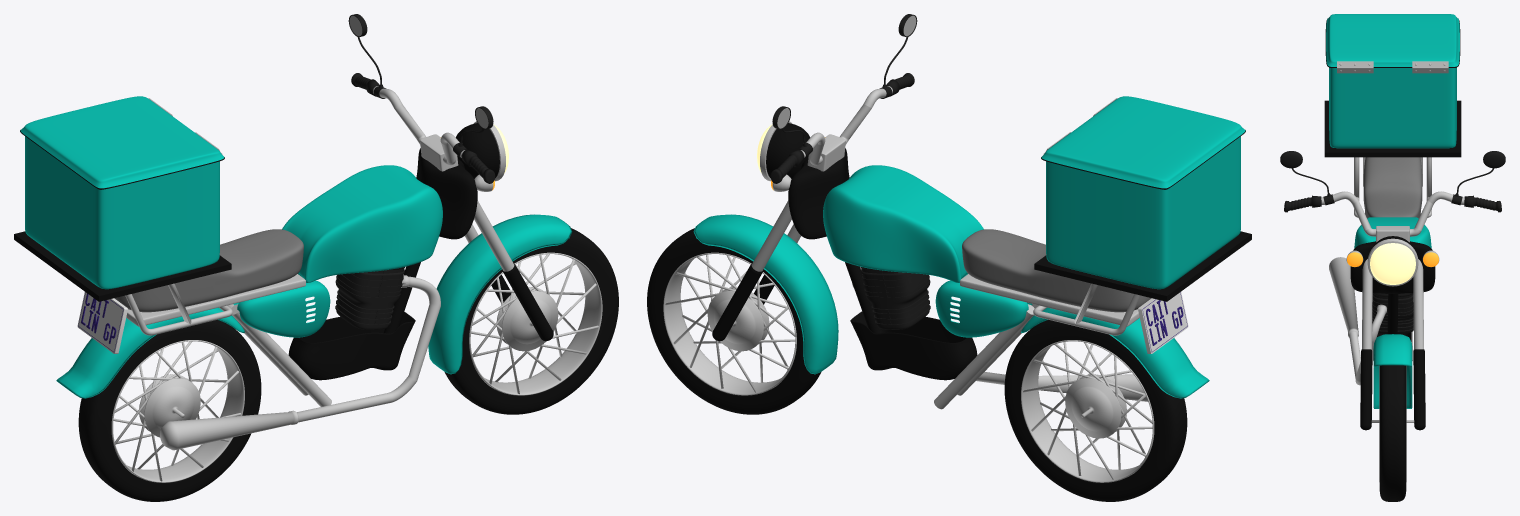
Rendered from checkers_sixty60_bike.glb.
3 views of the same model, side by side, from view 1: azimuth 30°, elevation 25°; view 2: azimuth 150°, elevation 25°; view 3: azimuth 270°, elevation 25° (orthographic). The views are drawn at different scales.
Visible parts, largest first — view 1: Box, Fuel Tank, Lid, Back Tyre, Front Fender, Front Tyre, Seat, Front Rim, Exhaust Pipe, Back Rim, Cube, Exhaust Muffler (+18 smaller); view 2: Box, Fuel Tank, Lid, Back Tyre, Front Fender, Front Tyre, Back Rim, Seat, Front Rim, Cube, Exhaust Muffler, Back Fender (+18 smaller); view 3: Box, Lid, Front Tyre, Seat, Exhaust Pipe, Pipe 5, Support, Front Fender, Pipe 2, Front Light, Controls, Pipe 6 (+11 smaller).
Part boxes in pixels (<box>): Box: <box>25,136,219,289</box>; Fuel Tank: <box>282,165,442,282</box>; Lid: <box>20,96,224,189</box>; Back Tyre: <box>78,319,261,501</box>; Front Fender: <box>428,214,572,374</box>; Front Tyre: <box>444,228,618,414</box>; Seat: <box>114,229,303,312</box>; Front Rim: <box>469,252,602,395</box>; Exhaust Pipe: <box>160,275,440,450</box>; Back Rim: <box>111,340,244,482</box>; Cube: <box>288,312,415,380</box>; Exhaust Muffler: <box>233,273,330,337</box>; Box: <box>1046,136,1240,289</box>; Fuel Tank: <box>823,165,983,282</box>; Lid: <box>1041,96,1245,189</box>; Back Tyre: <box>1004,319,1187,501</box>; Front Fender: <box>693,214,838,374</box>; Front Tyre: <box>647,228,821,414</box>; Back Rim: <box>1021,340,1154,482</box>; Seat: <box>962,229,1151,312</box>; Front Rim: <box>663,252,796,395</box>; Cube: <box>850,311,977,380</box>; Exhaust Muffler: <box>935,273,1032,337</box>; Back Fender: <box>1021,307,1209,398</box>; Box: <box>1329,67,1456,148</box>; Lid: <box>1325,14,1460,67</box>; Front Tyre: <box>1379,365,1406,501</box>; Seat: <box>1363,157,1422,218</box>; Exhaust Pipe: <box>1329,257,1386,385</box>; Pipe 5: <box>1360,349,1425,430</box>; Support: <box>1324,100,1461,157</box>; Front Fender: <box>1373,334,1412,408</box>; Pipe 2: <box>1362,259,1423,349</box>; Front Light: <box>1370,243,1415,284</box>; Controls: <box>1350,241,1435,293</box>; Pipe 6: <box>1321,191,1464,236</box>.
Size of the model in its own units: 4.05 by 2.59 by 1.76.
Materials: 12 (10 with a texture image).
